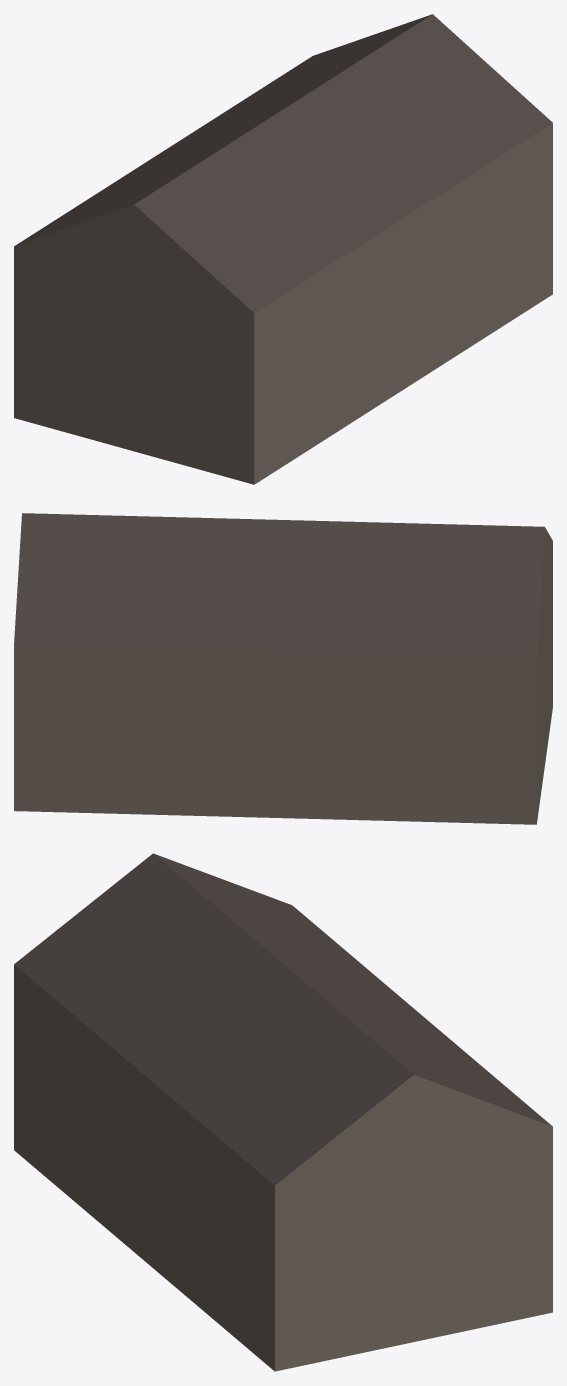
The picture shows the model from 3 angles, top to bottom: view 1: azimuth 30°, elevation 25°; view 2: azimuth 150°, elevation 25°; view 3: azimuth 270°, elevation 25°; orthographic projection. The views are drawn at different scales.
Visible parts, largest first — view 1: HP-w859457476; view 2: HP-w859457476; view 3: HP-w859457476.
Boxes of the visible parts, x1=… form: HP-w859457476: x1=14, y1=14, x2=552, y2=484; HP-w859457476: x1=14, y1=513, x2=552, y2=824; HP-w859457476: x1=14, y1=853, x2=552, y2=1371.
Size of the model in its own units: 29.14 by 12.95 by 23.66.
